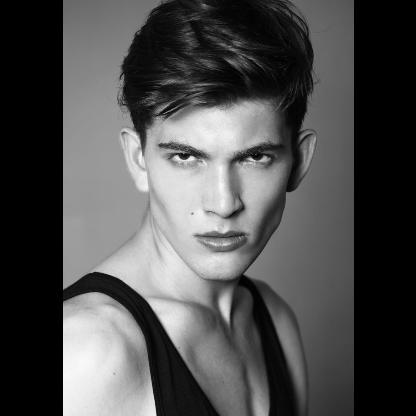Male: (119, 97, 316, 279)
